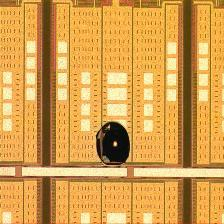PARTICLE: (91, 120, 139, 168)
